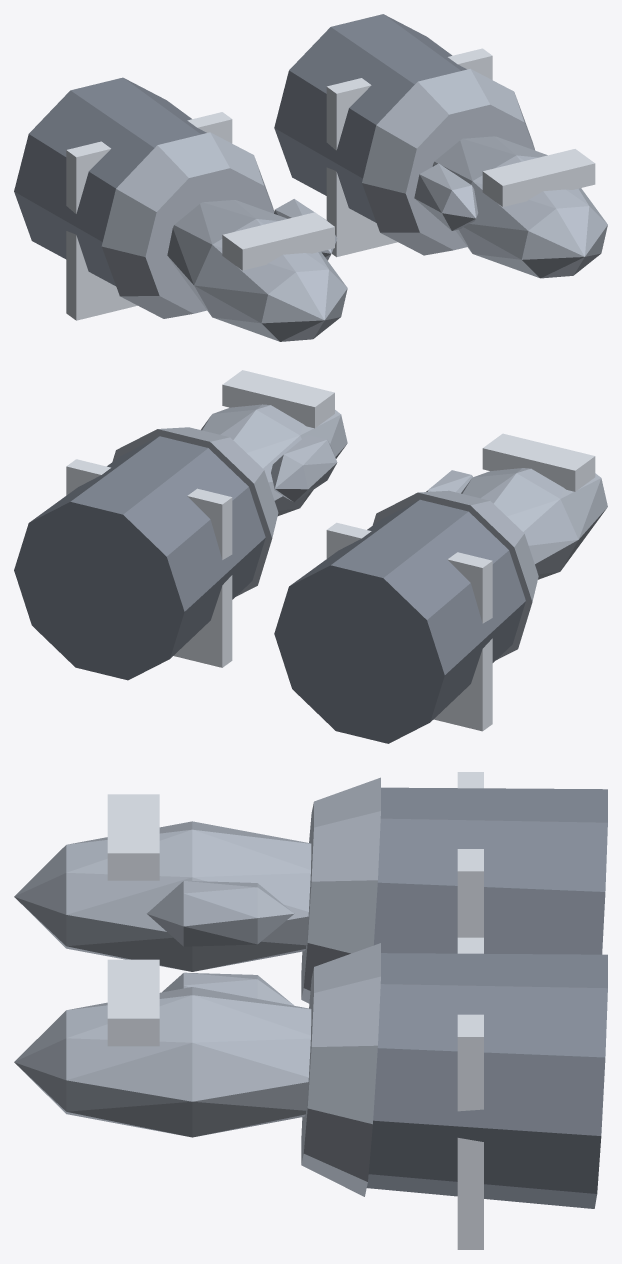
File: drop_steel_gauntlets.glb
3 renders of one model, top to bottom at view 1: azimuth 30°, elevation 25°; view 2: azimuth 150°, elevation 25°; view 3: azimuth 270°, elevation 25°, orthographic. The views are drawn at different scales.
Parts seen in each view (by area): view 1: drop_steel_gauntlets; view 2: drop_steel_gauntlets; view 3: drop_steel_gauntlets.
Boxes of the visible parts, box(x1,y1,x2,y2) form: drop_steel_gauntlets: box(14, 14, 607, 341); drop_steel_gauntlets: box(14, 370, 607, 743); drop_steel_gauntlets: box(14, 772, 607, 1249).
Bounding box in the file's own units: 0.2384 × 0.0976 × 0.2184.
